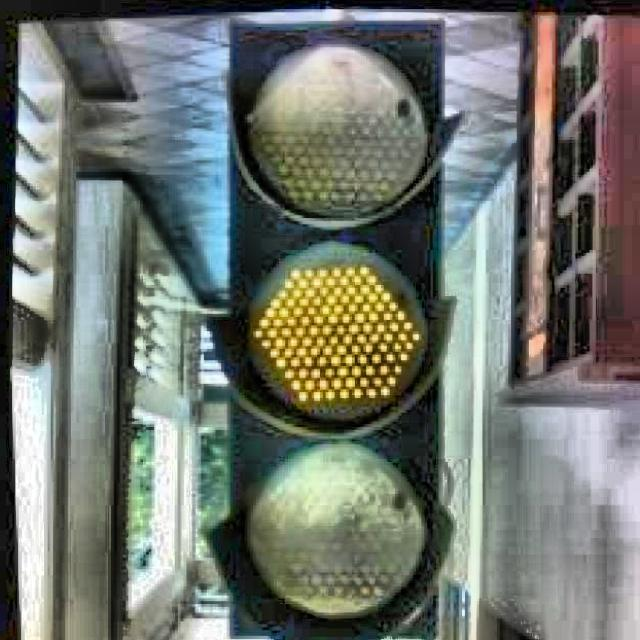yellow: (229, 18, 445, 638)
